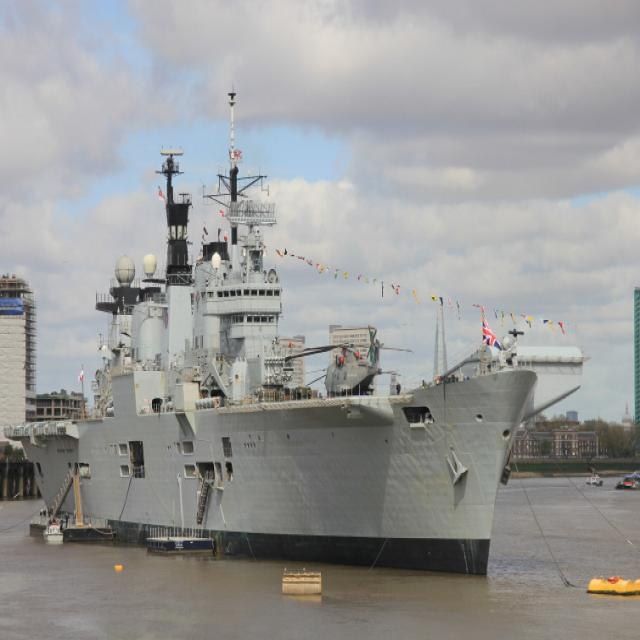Portanaves: (1, 73, 540, 583)
